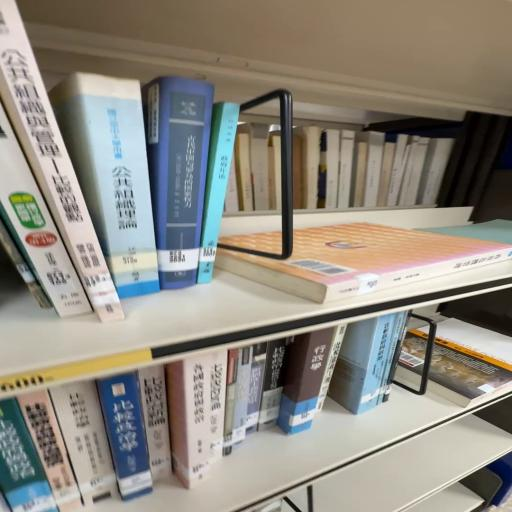flat: (218, 223, 512, 304), (430, 319, 512, 407), (397, 328, 430, 387), (222, 232, 280, 251)
